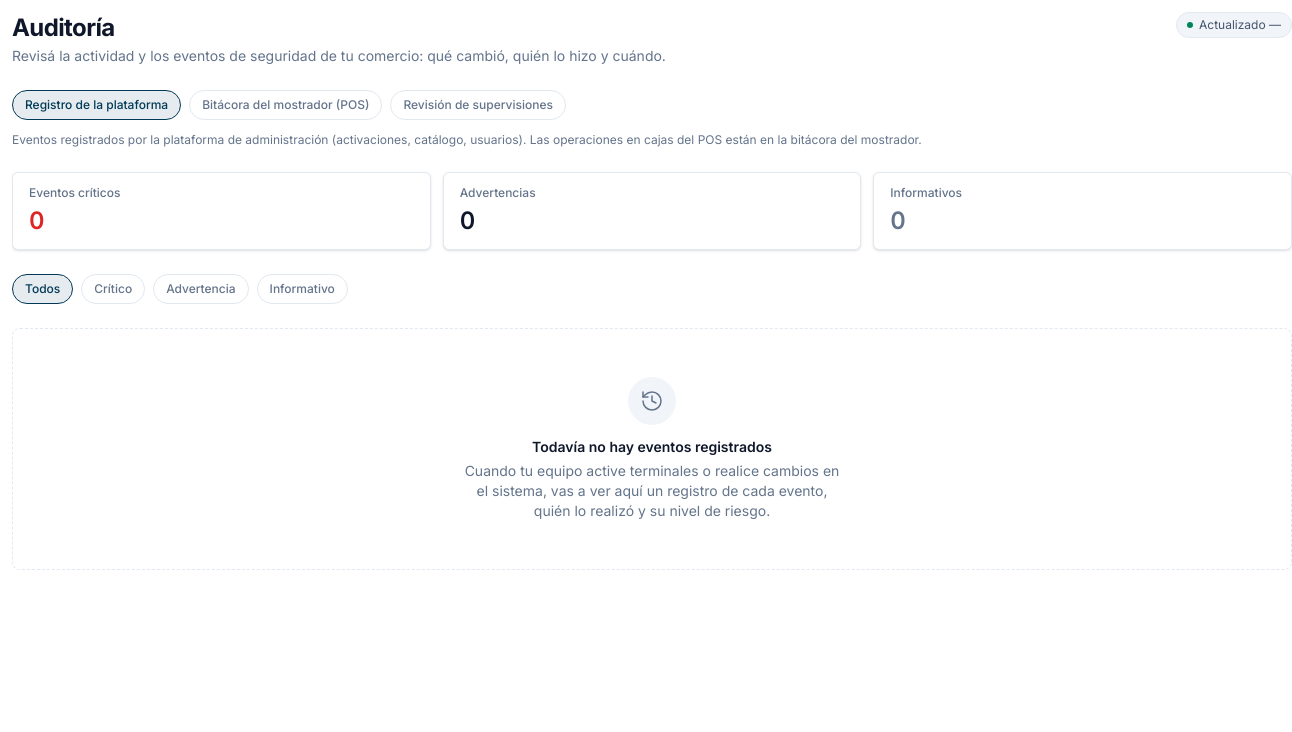
it: Supervision review queue › is reachable from the audit page as its own source
Step 1. Click the button with test id "audit-view-supervision" → (478, 105), box [390,90,566,120]
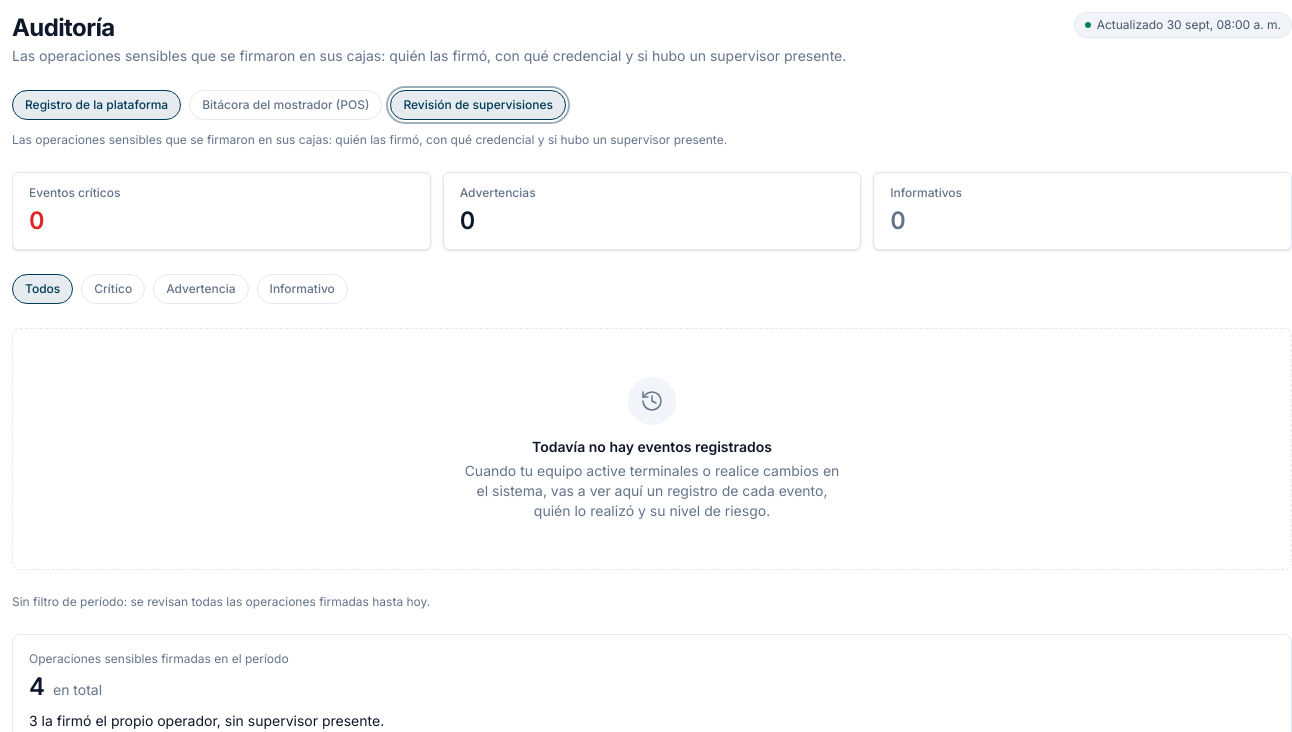
Expected: the text "Las operaciones sensibles que se firmaron" below "Auditoría" is shown, [12,47,846,64]
